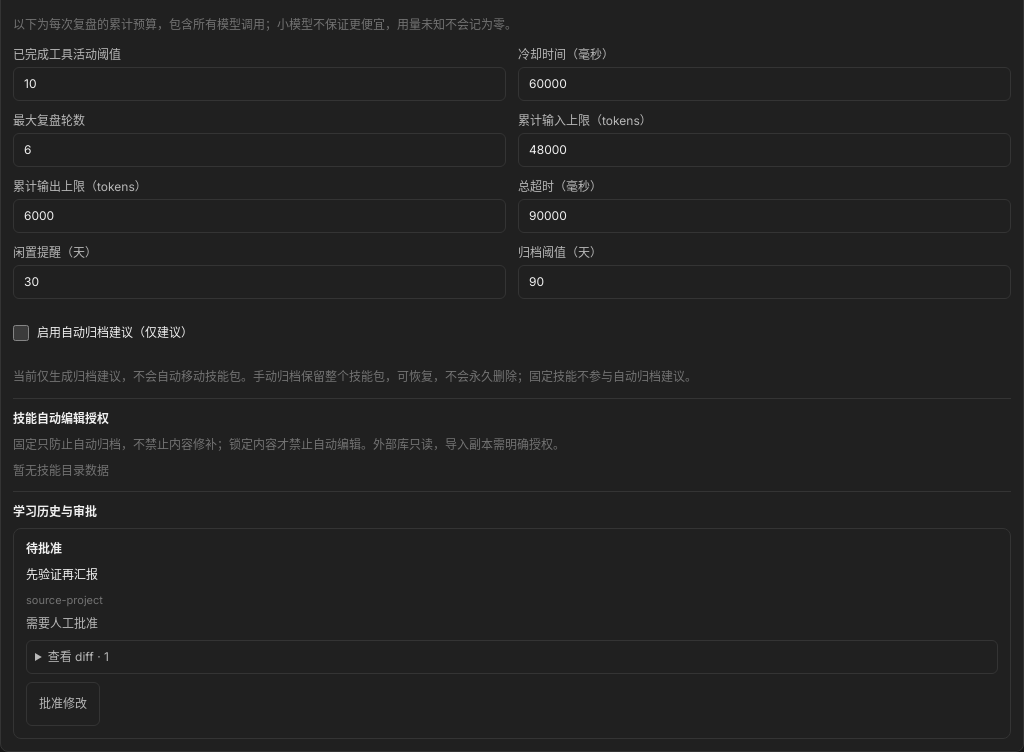
Test: SkillLearningSettings › keeps frozen approval history available in off mode and displays host write failures on the original card
This screenshot has width=1024, height=752.
(page scrolled)
Click the button named "批准修改" at (63, 704), box [26,682,100,726]
(page scrolled)
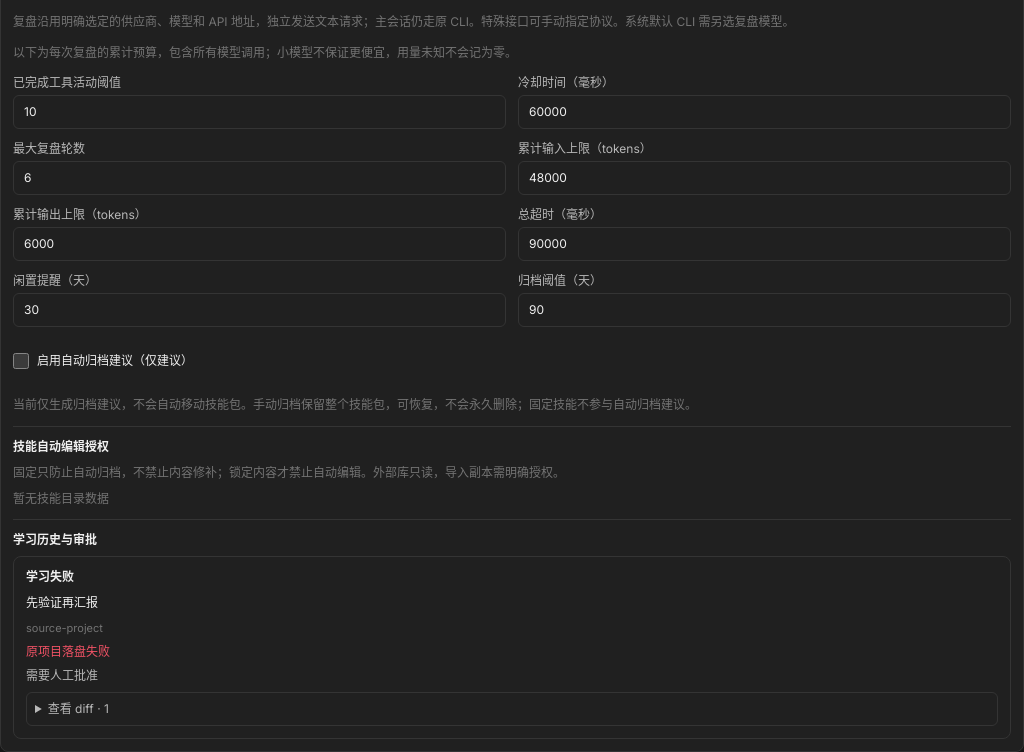
Expected: the message "原项目落盘失败" is shown, [26,644,110,659]
Expected: the text "学习失败" is shown, [26,568,74,584]
